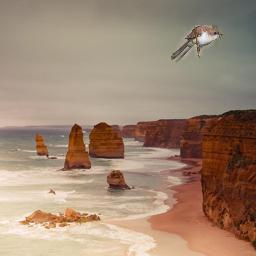Cuckoo: (169, 25, 223, 63)
